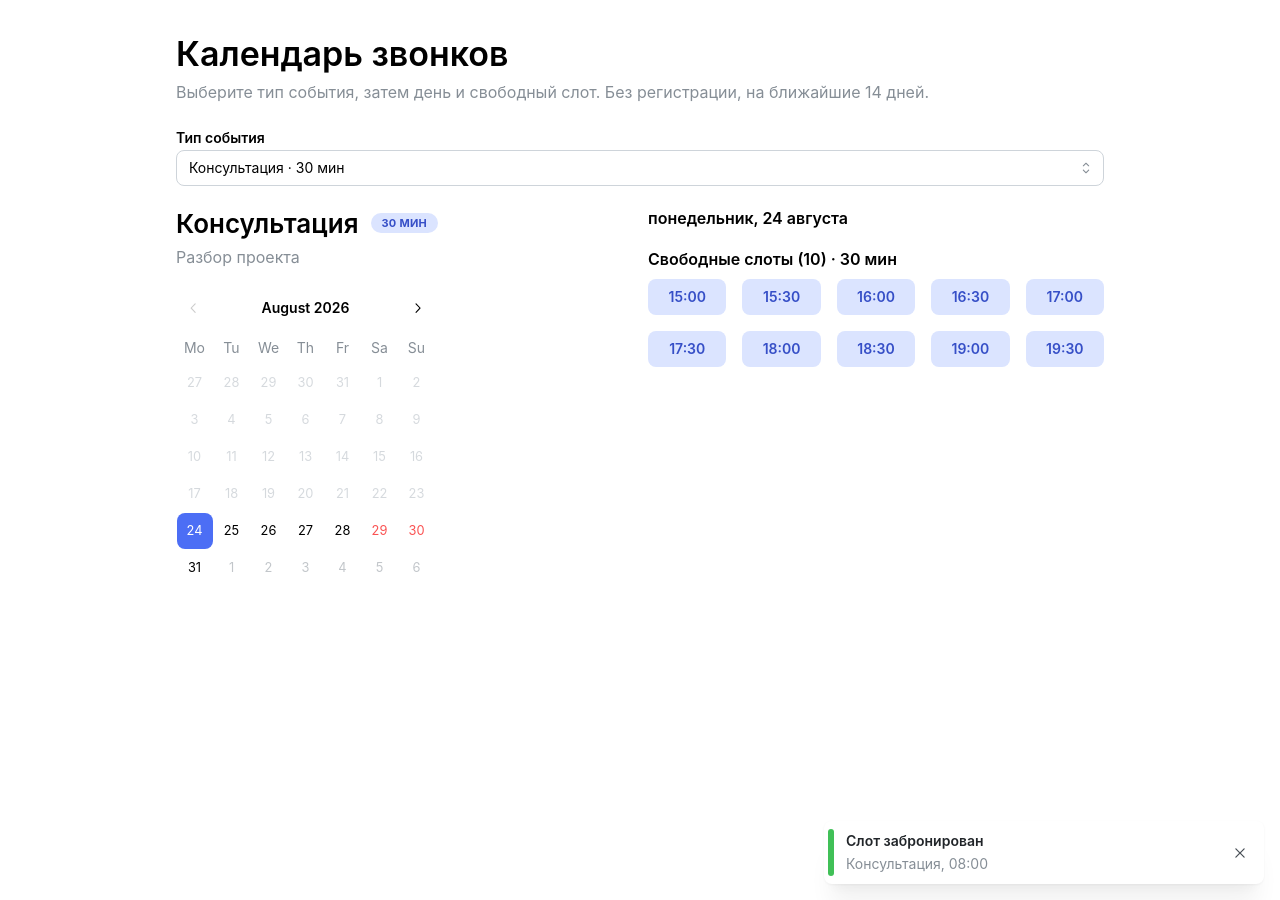
it: BookingPage (гость: тип события → календарь → слоты) › конфликт 409 показывает сообщение «Слот уже занят»
This screenshot has width=1280, height=900.
Expected: the heading "Консультация" is shown, [176,206,358,241]
Step 1. Click the button named "2026-08-25" → (232, 531), box [214,513,250,549]
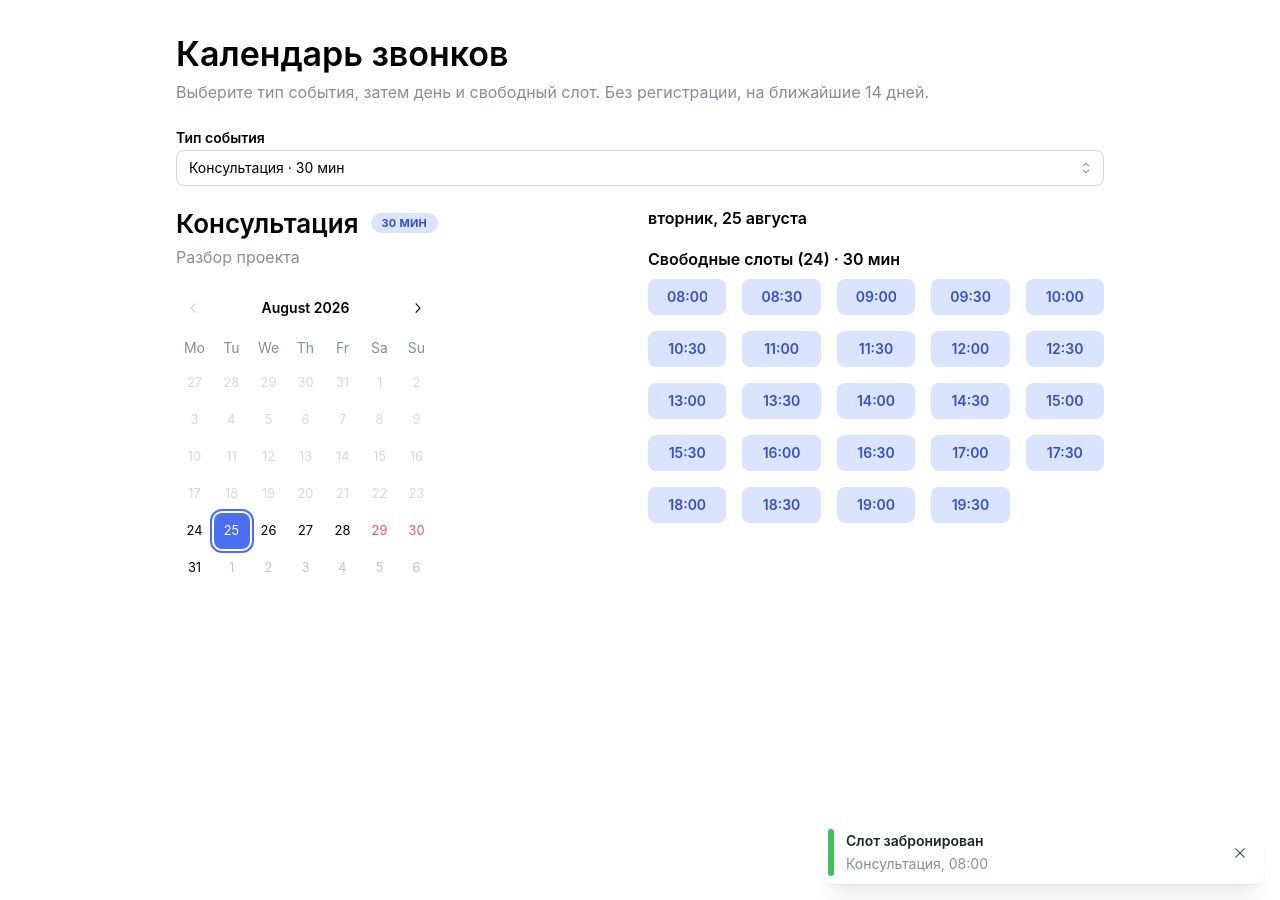
Expected: the text "Свободные слоты (24) · 30 мин" is shown, [648,249,900,269]
Step 2. Click the button "08:00" → (687, 297), box [648,279,726,315]
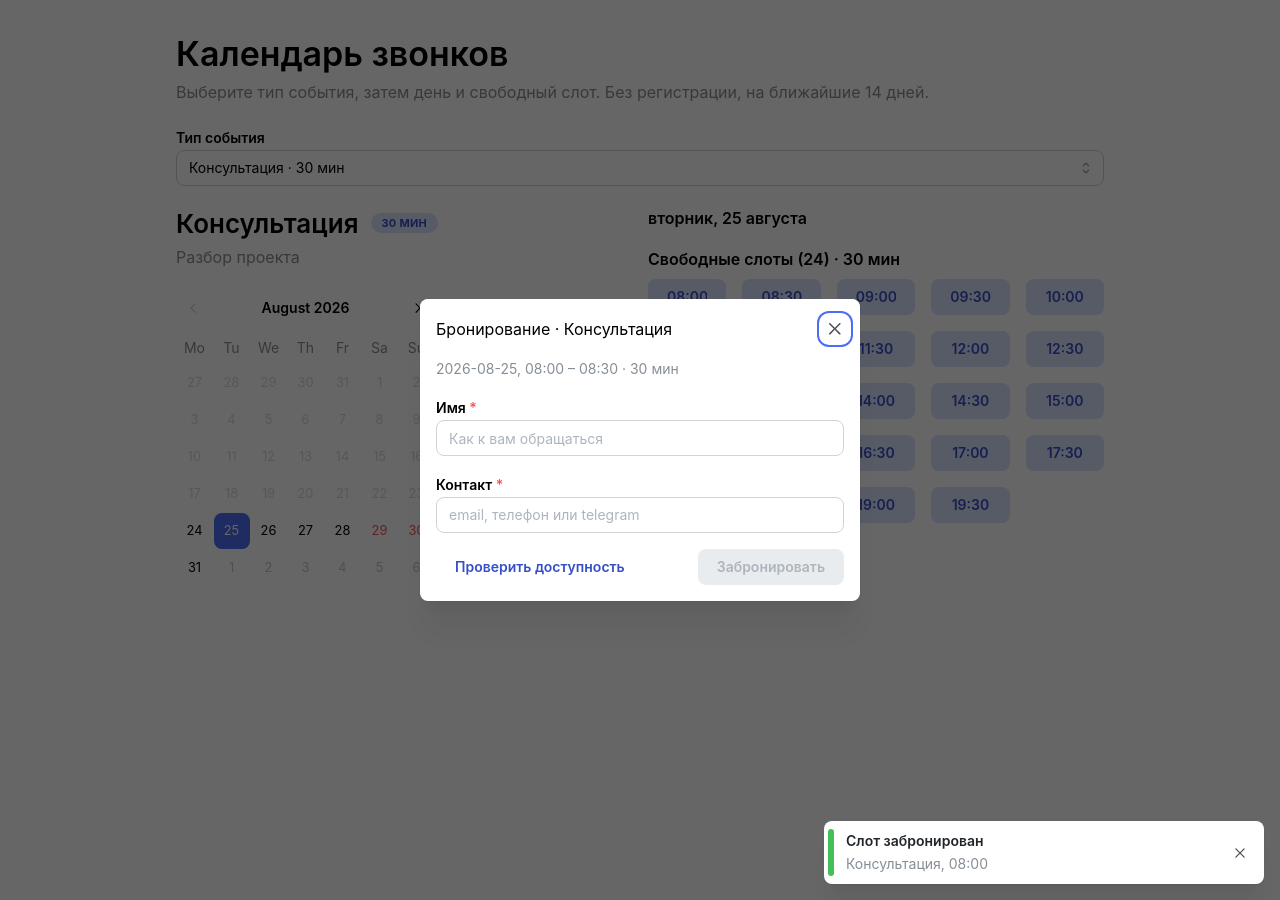
Expected: the field labelled "Имя *" is shown
Step 3. Type "Иван Петров" into the field labelled "Имя *" → (640, 438), box [436,420,844,456]
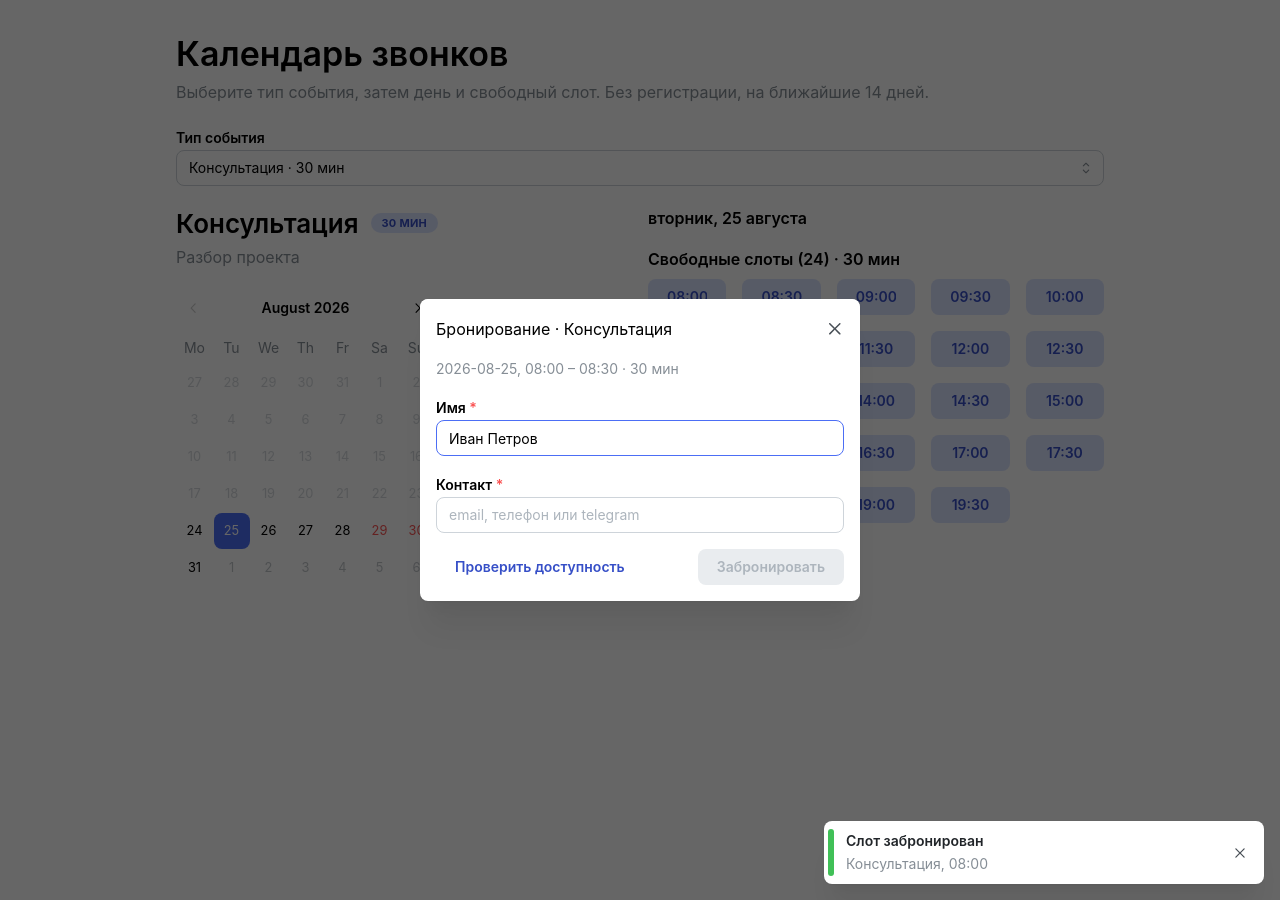
Step 4. Type "ivan@example.com" into the field labelled "Контакт *" → (640, 515), box [436,497,844,533]
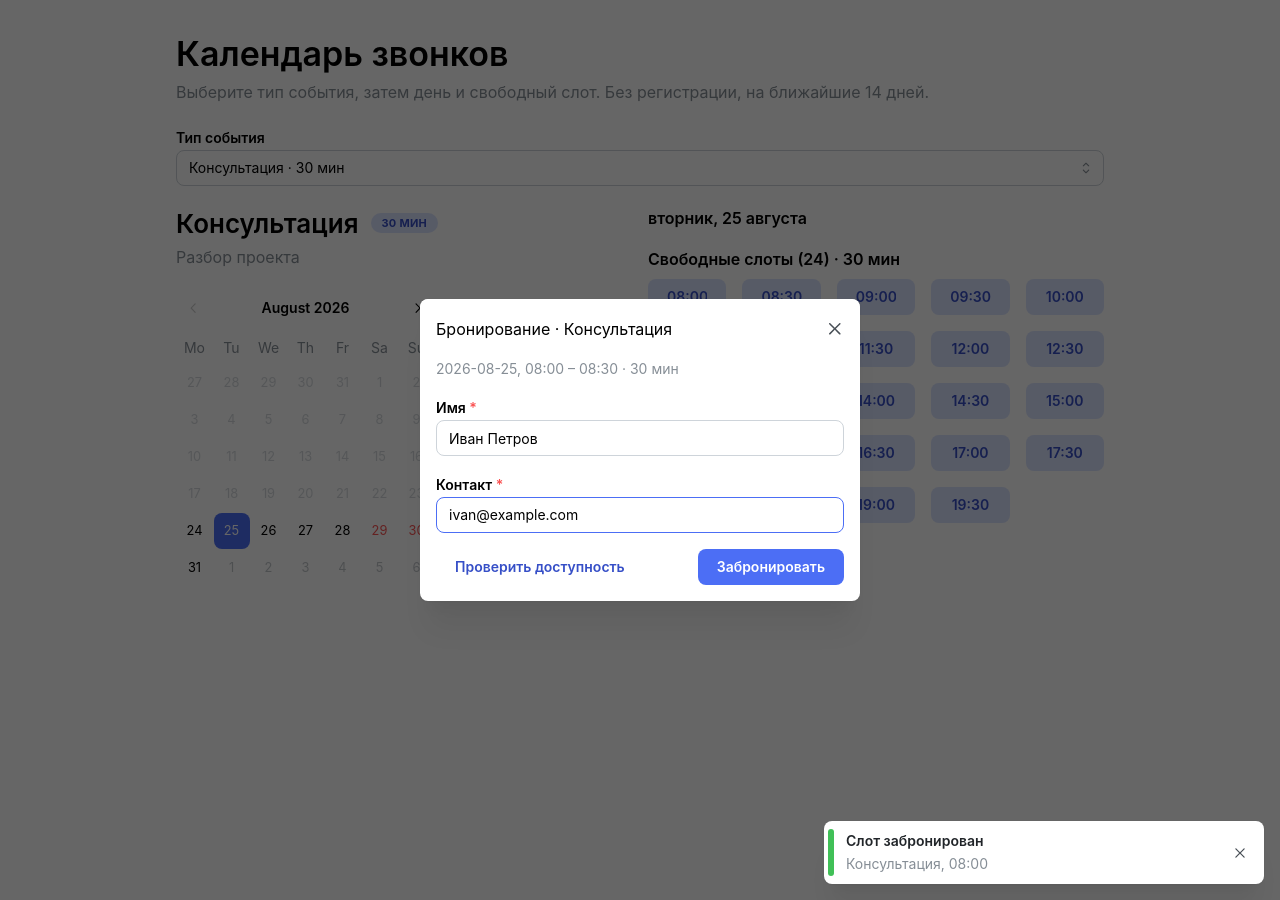
Step 5. Click the button "Забронировать" → (771, 567), box [698,549,844,585]
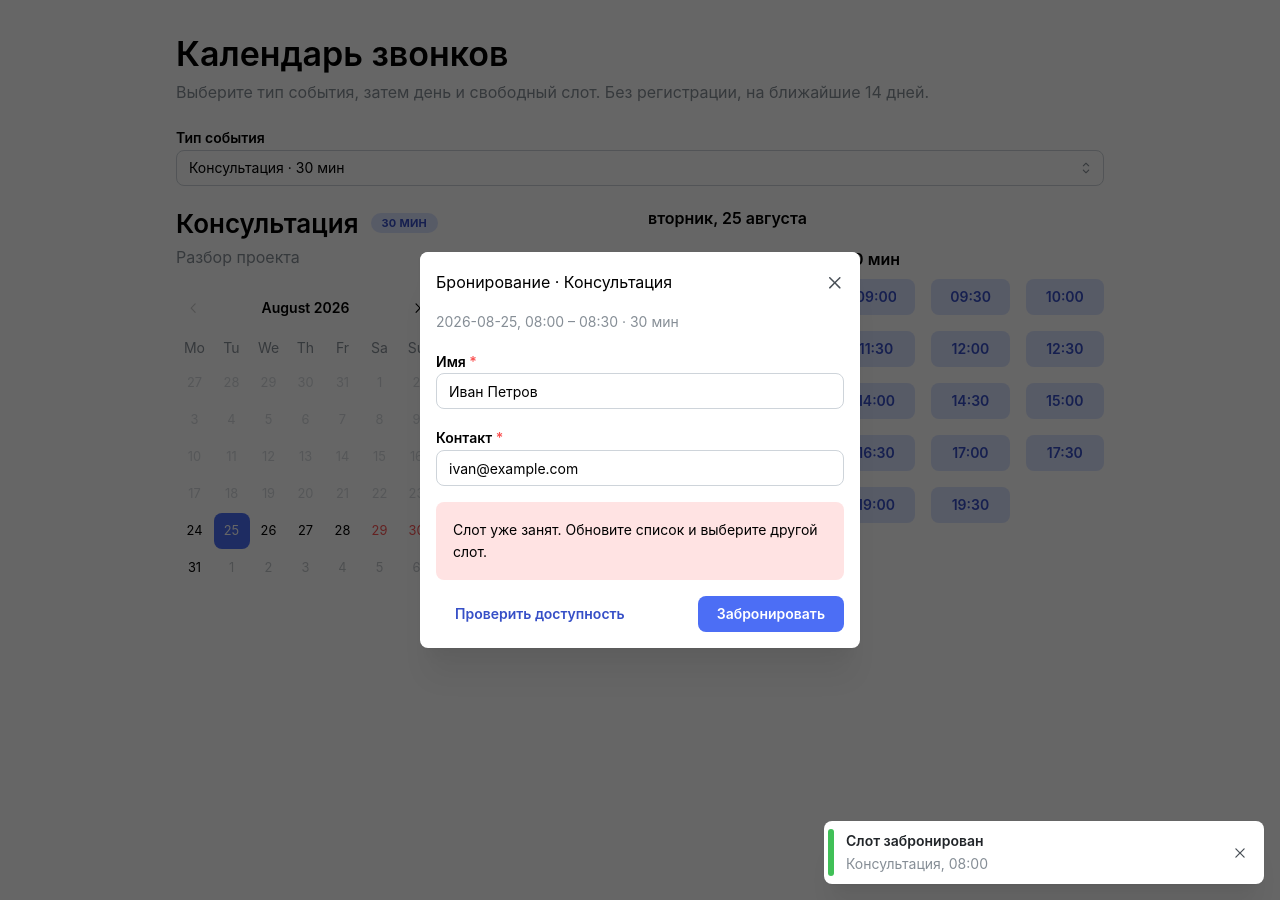
Expected: the text "Слот уже занят. Обновите список и выберите другой слот." is shown, [453,519,827,563]
